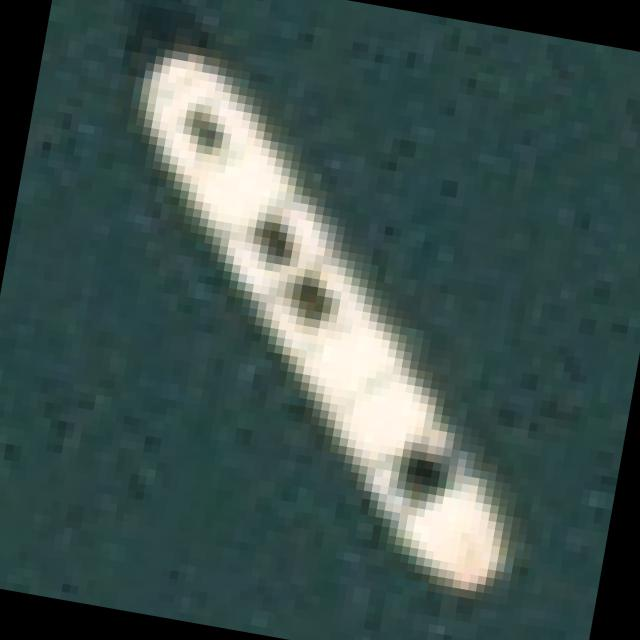ship: (32, 10, 616, 622)
